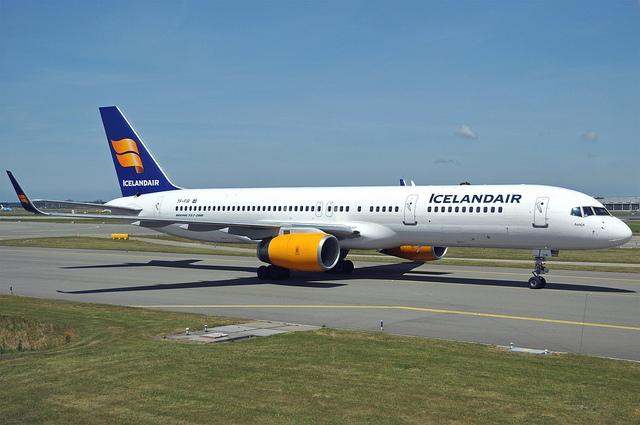airplane: (2, 102, 640, 295)
